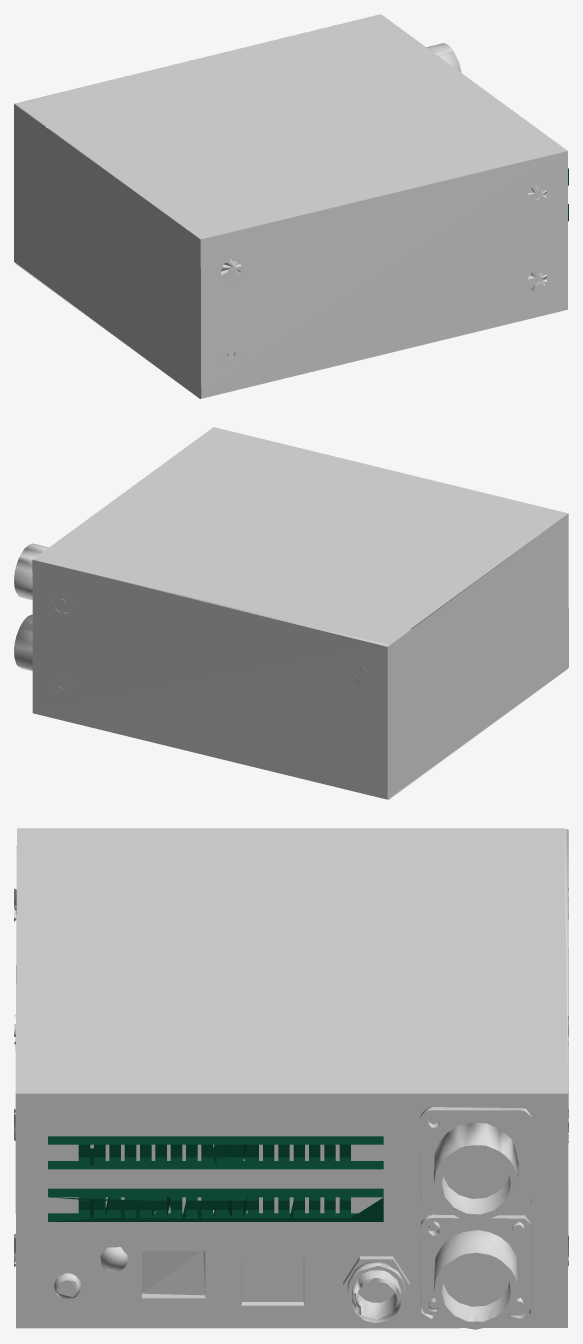
Rendered from dcbox.dae.
3 views of the same model, one above another, from view 1: azimuth 30°, elevation 25°; view 2: azimuth 150°, elevation 25°; view 3: azimuth 270°, elevation 25° (orthographic). The views are drawn at different scales.
Visible parts, largest first — view 1: Object; view 2: Object; view 3: Object.
Boxes of the visible parts, x1,y1,x2,y2 form: Object: [14, 14, 568, 398]; Object: [14, 427, 568, 799]; Object: [14, 828, 568, 1329].
Size of the model in its own units: 0.1791 by 0.1447 by 0.0681.
